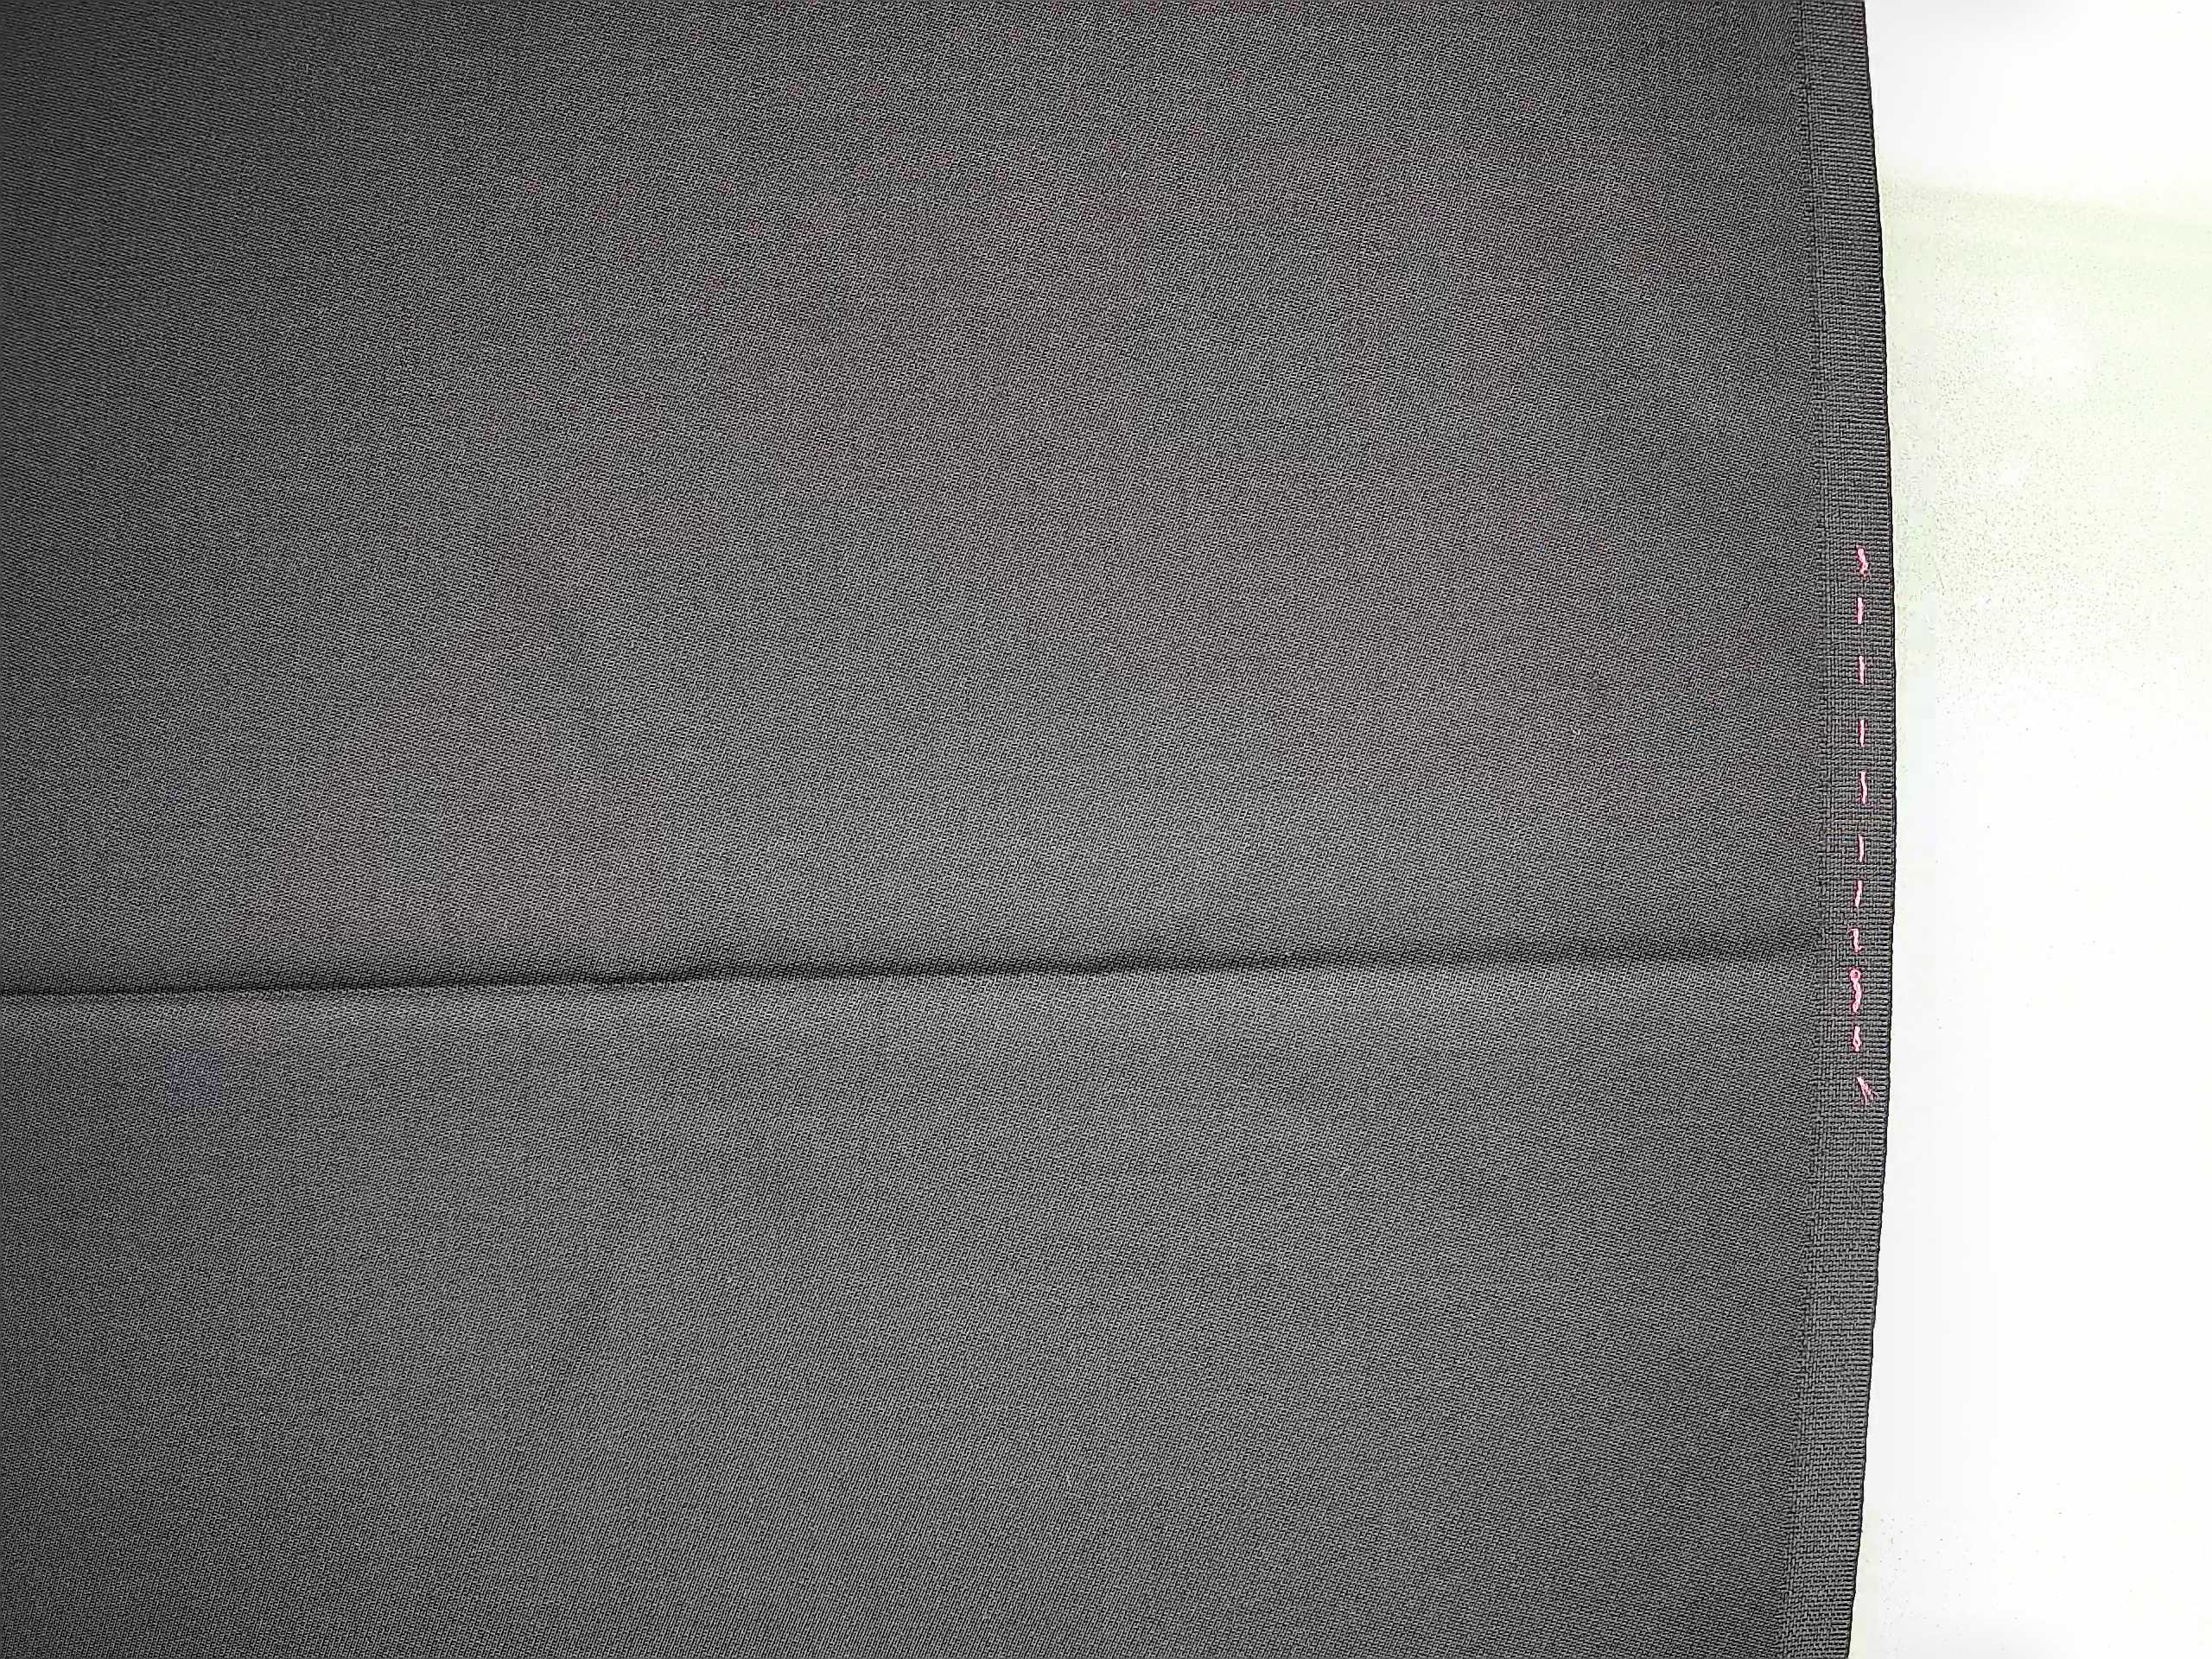jumps: (1214, 791, 1287, 1236)
